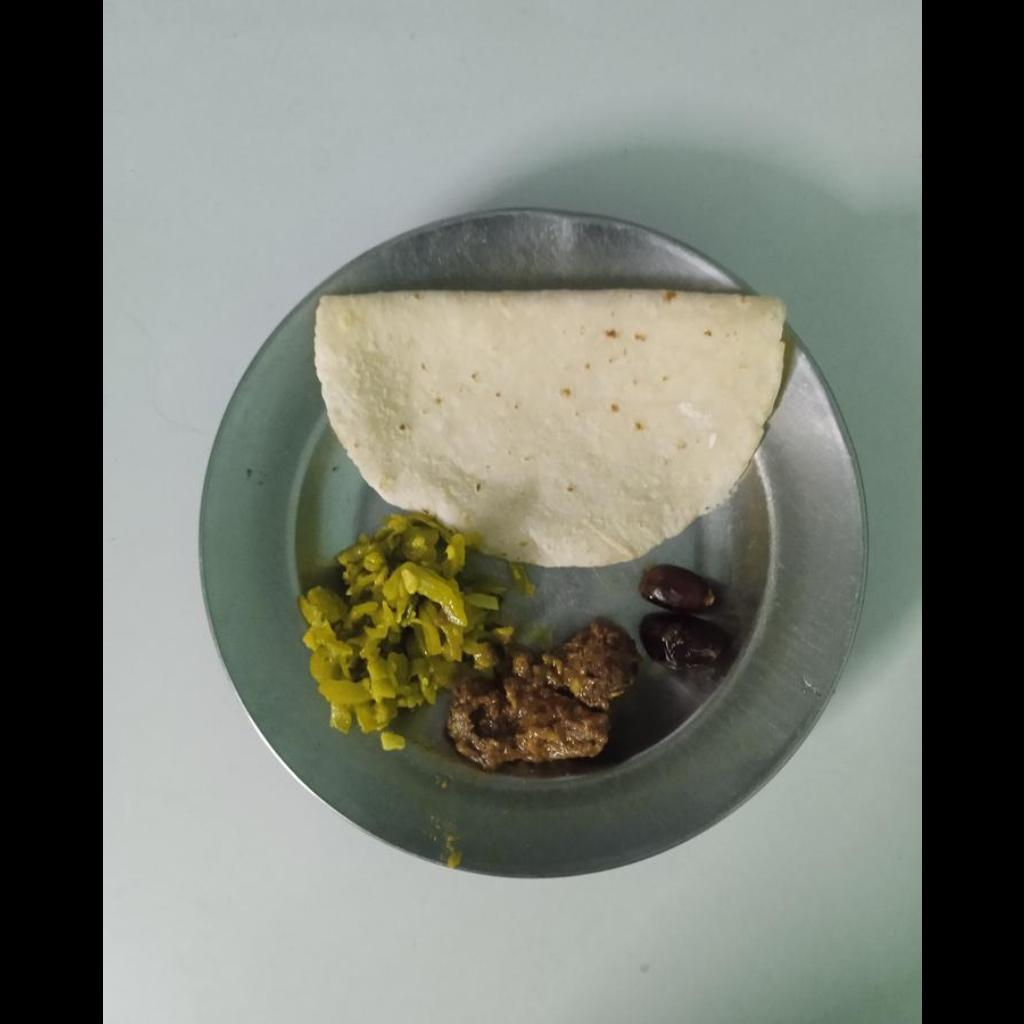chicken: (448, 622, 636, 769)
dates: (641, 559, 723, 662)
ruti: (309, 297, 783, 560)
vaji: (302, 520, 503, 730)
